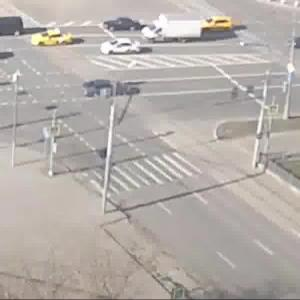car: (144, 15, 196, 46), (81, 77, 137, 101), (30, 26, 73, 48), (108, 13, 141, 36), (103, 41, 134, 57), (200, 17, 230, 32)
